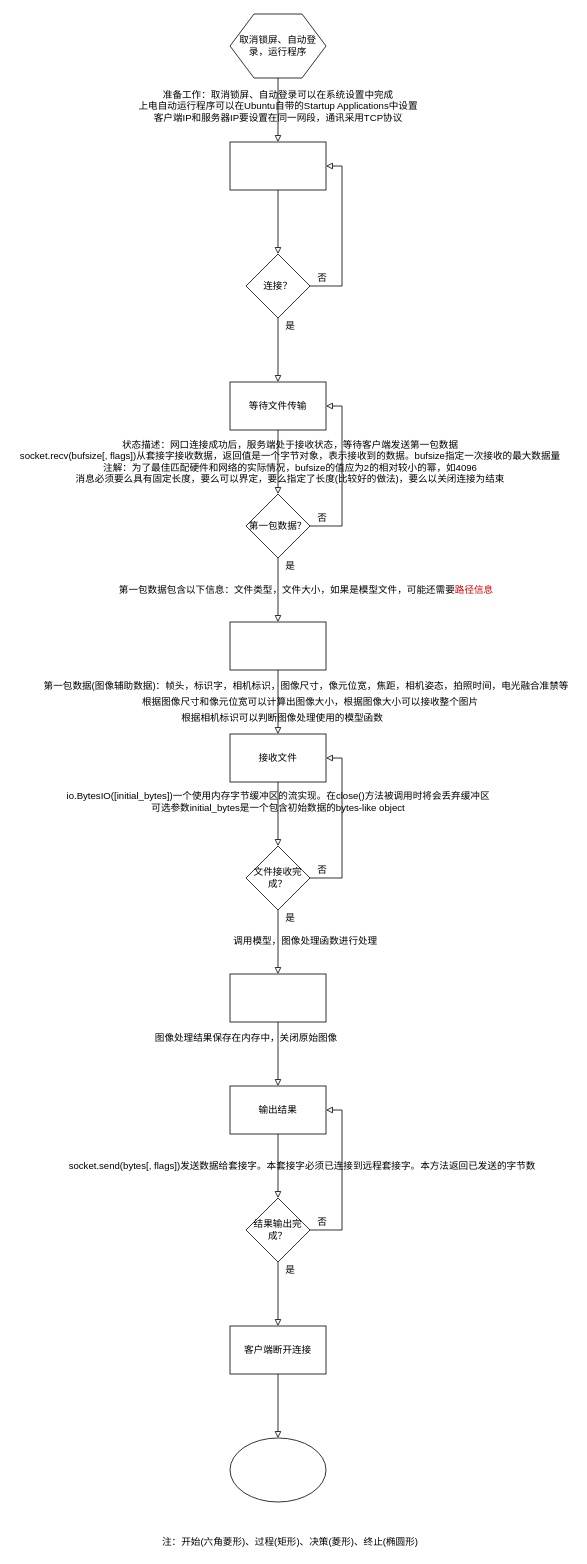
Image size: 587x1564. Some labels were removed from this diagram. Here are the shapes that lost their labels. From the top down, the centre of each, then its label:
At (x=277, y=165): "等待客户端连接".
At (x=277, y=645): "数据包解析".
At (x=277, y=997): "文件处理".
At (x=277, y=1469): "自动关机".
